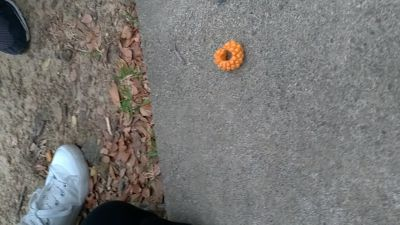eggs: (212, 40, 246, 72)
